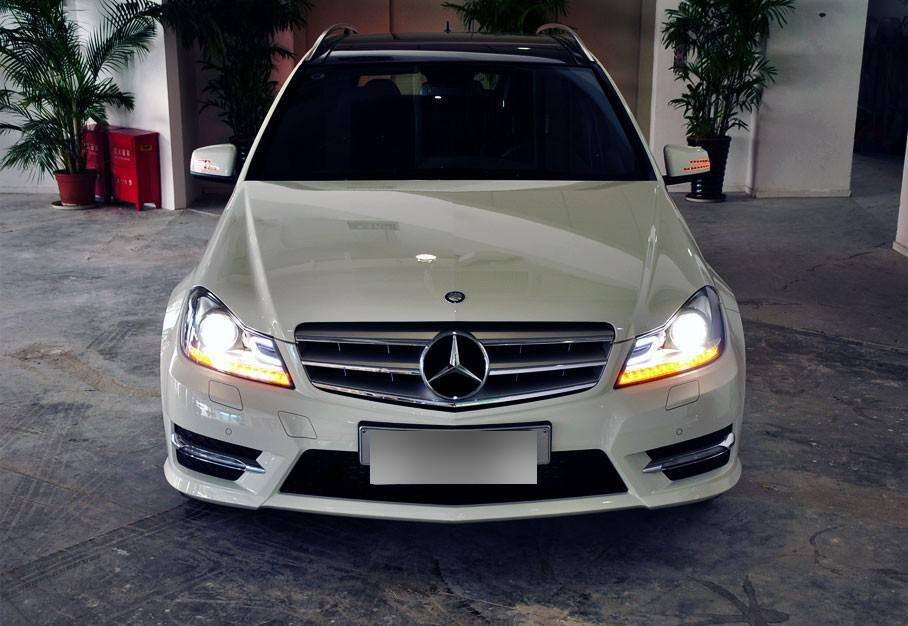Wagon: (156, 20, 749, 530)
